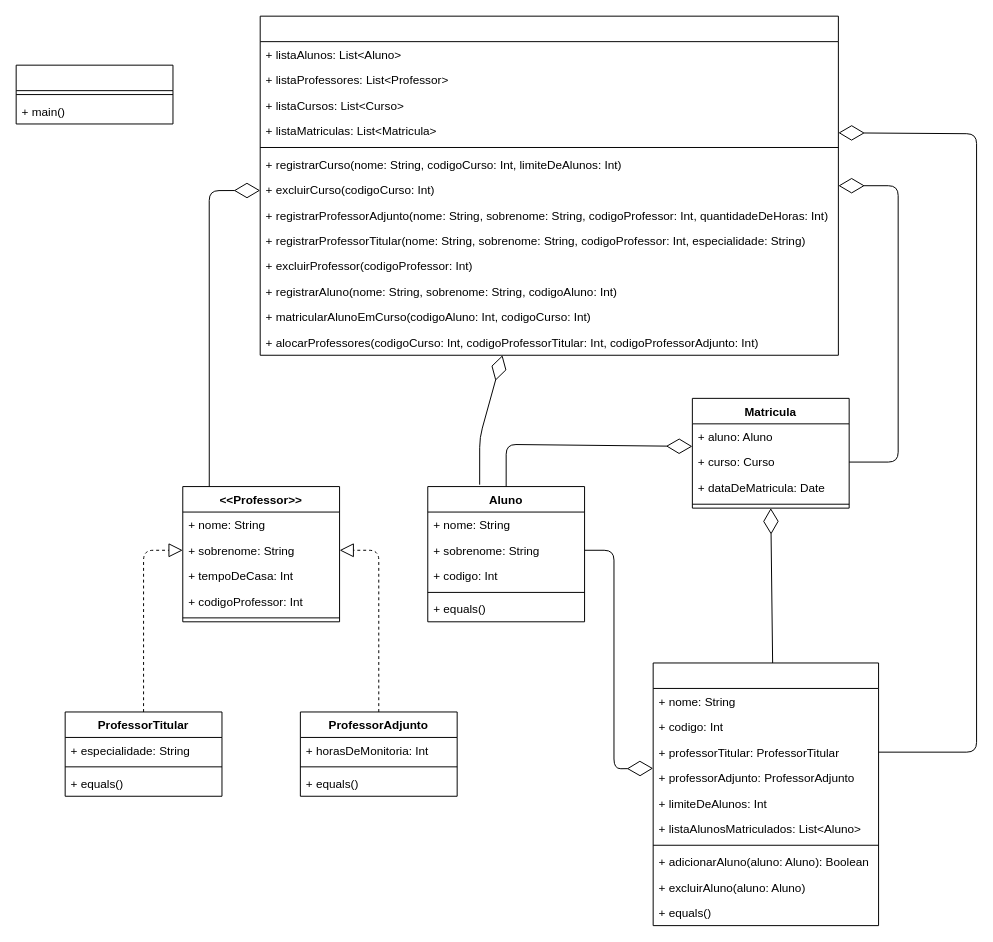
Image size: 993x942. Some labels were removed from this diagram. Each missing label, with the box of its shape:
Curso: (652, 662, 879, 926)
DigitalHouseManager: (259, 15, 838, 355)
Principal: (15, 64, 173, 124)
